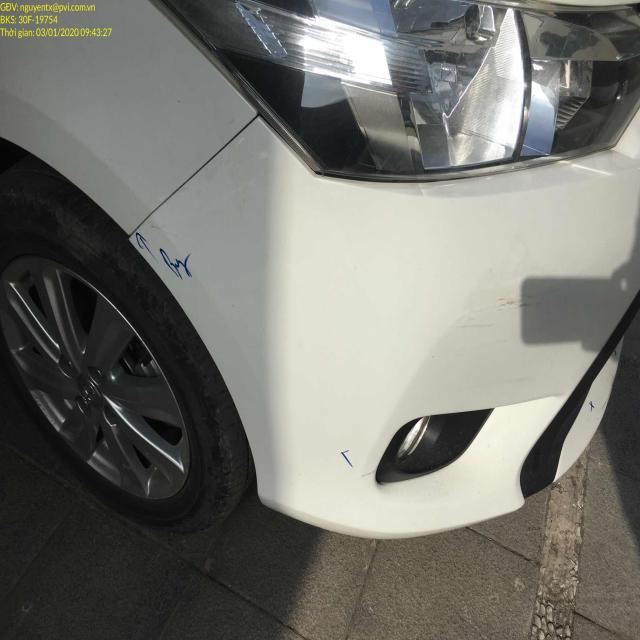Dechirure: (121, 155, 216, 254)
Phare abime: (382, 0, 530, 144)
Rayure: (463, 260, 585, 354)
